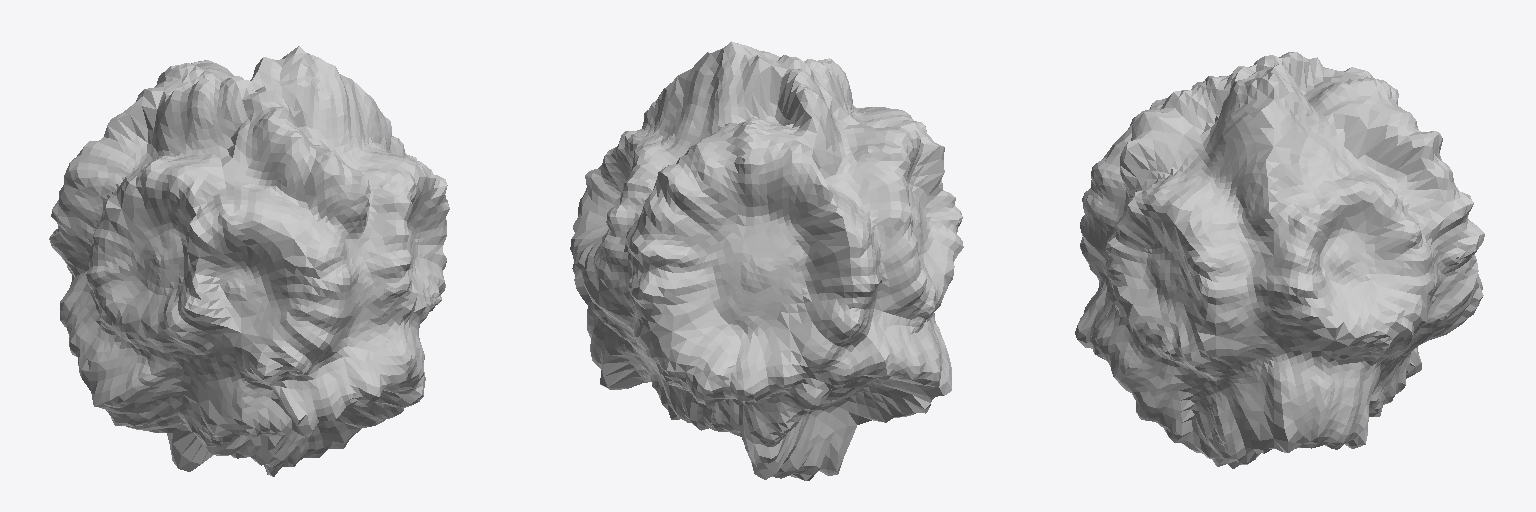
The model's file is ball_coral.obj.
3 renders of one model, left to right at view 1: azimuth 30°, elevation 25°; view 2: azimuth 150°, elevation 25°; view 3: azimuth 270°, elevation 25°, orthographic.
Visible parts, largest first — view 1: Outside_ball_coral; view 2: Outside_ball_coral; view 3: Outside_ball_coral.
Part boxes in pixels (left/top/right/bottom): Outside_ball_coral: left=49, top=46, right=449, bottom=476; Outside_ball_coral: left=570, top=41, right=963, bottom=480; Outside_ball_coral: left=1075, top=52, right=1484, bottom=468.
Bounding box in the file's own units: 0.4124 × 0.4621 × 0.4236.